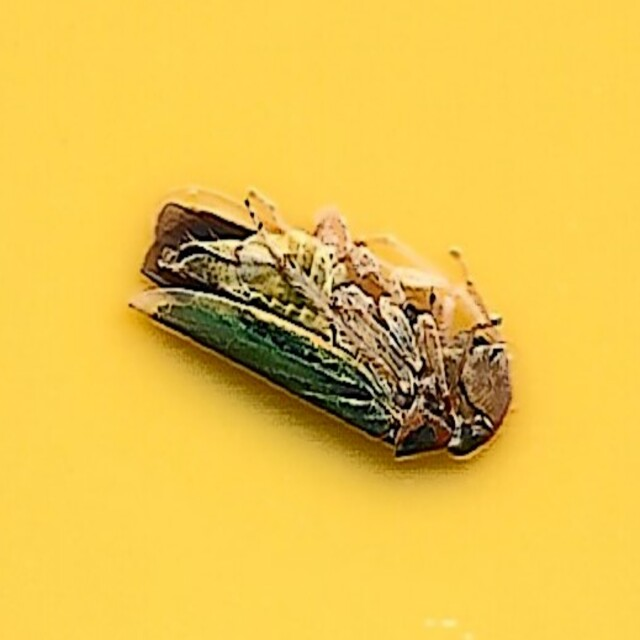Hemiptera: (123, 179, 517, 461)
